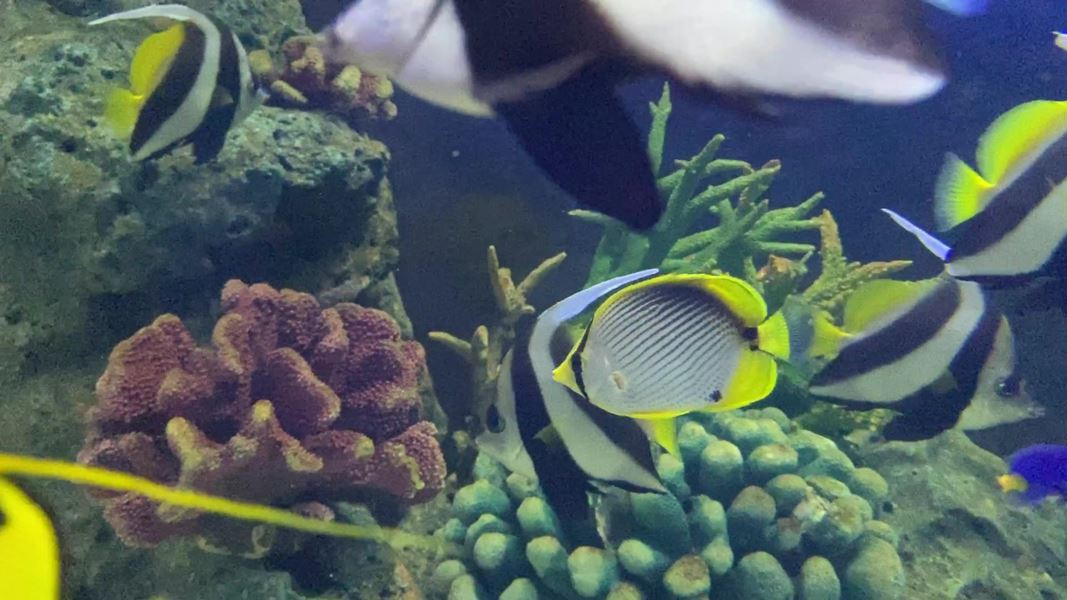Black-backed butterflyfish: (546, 261, 831, 425)
